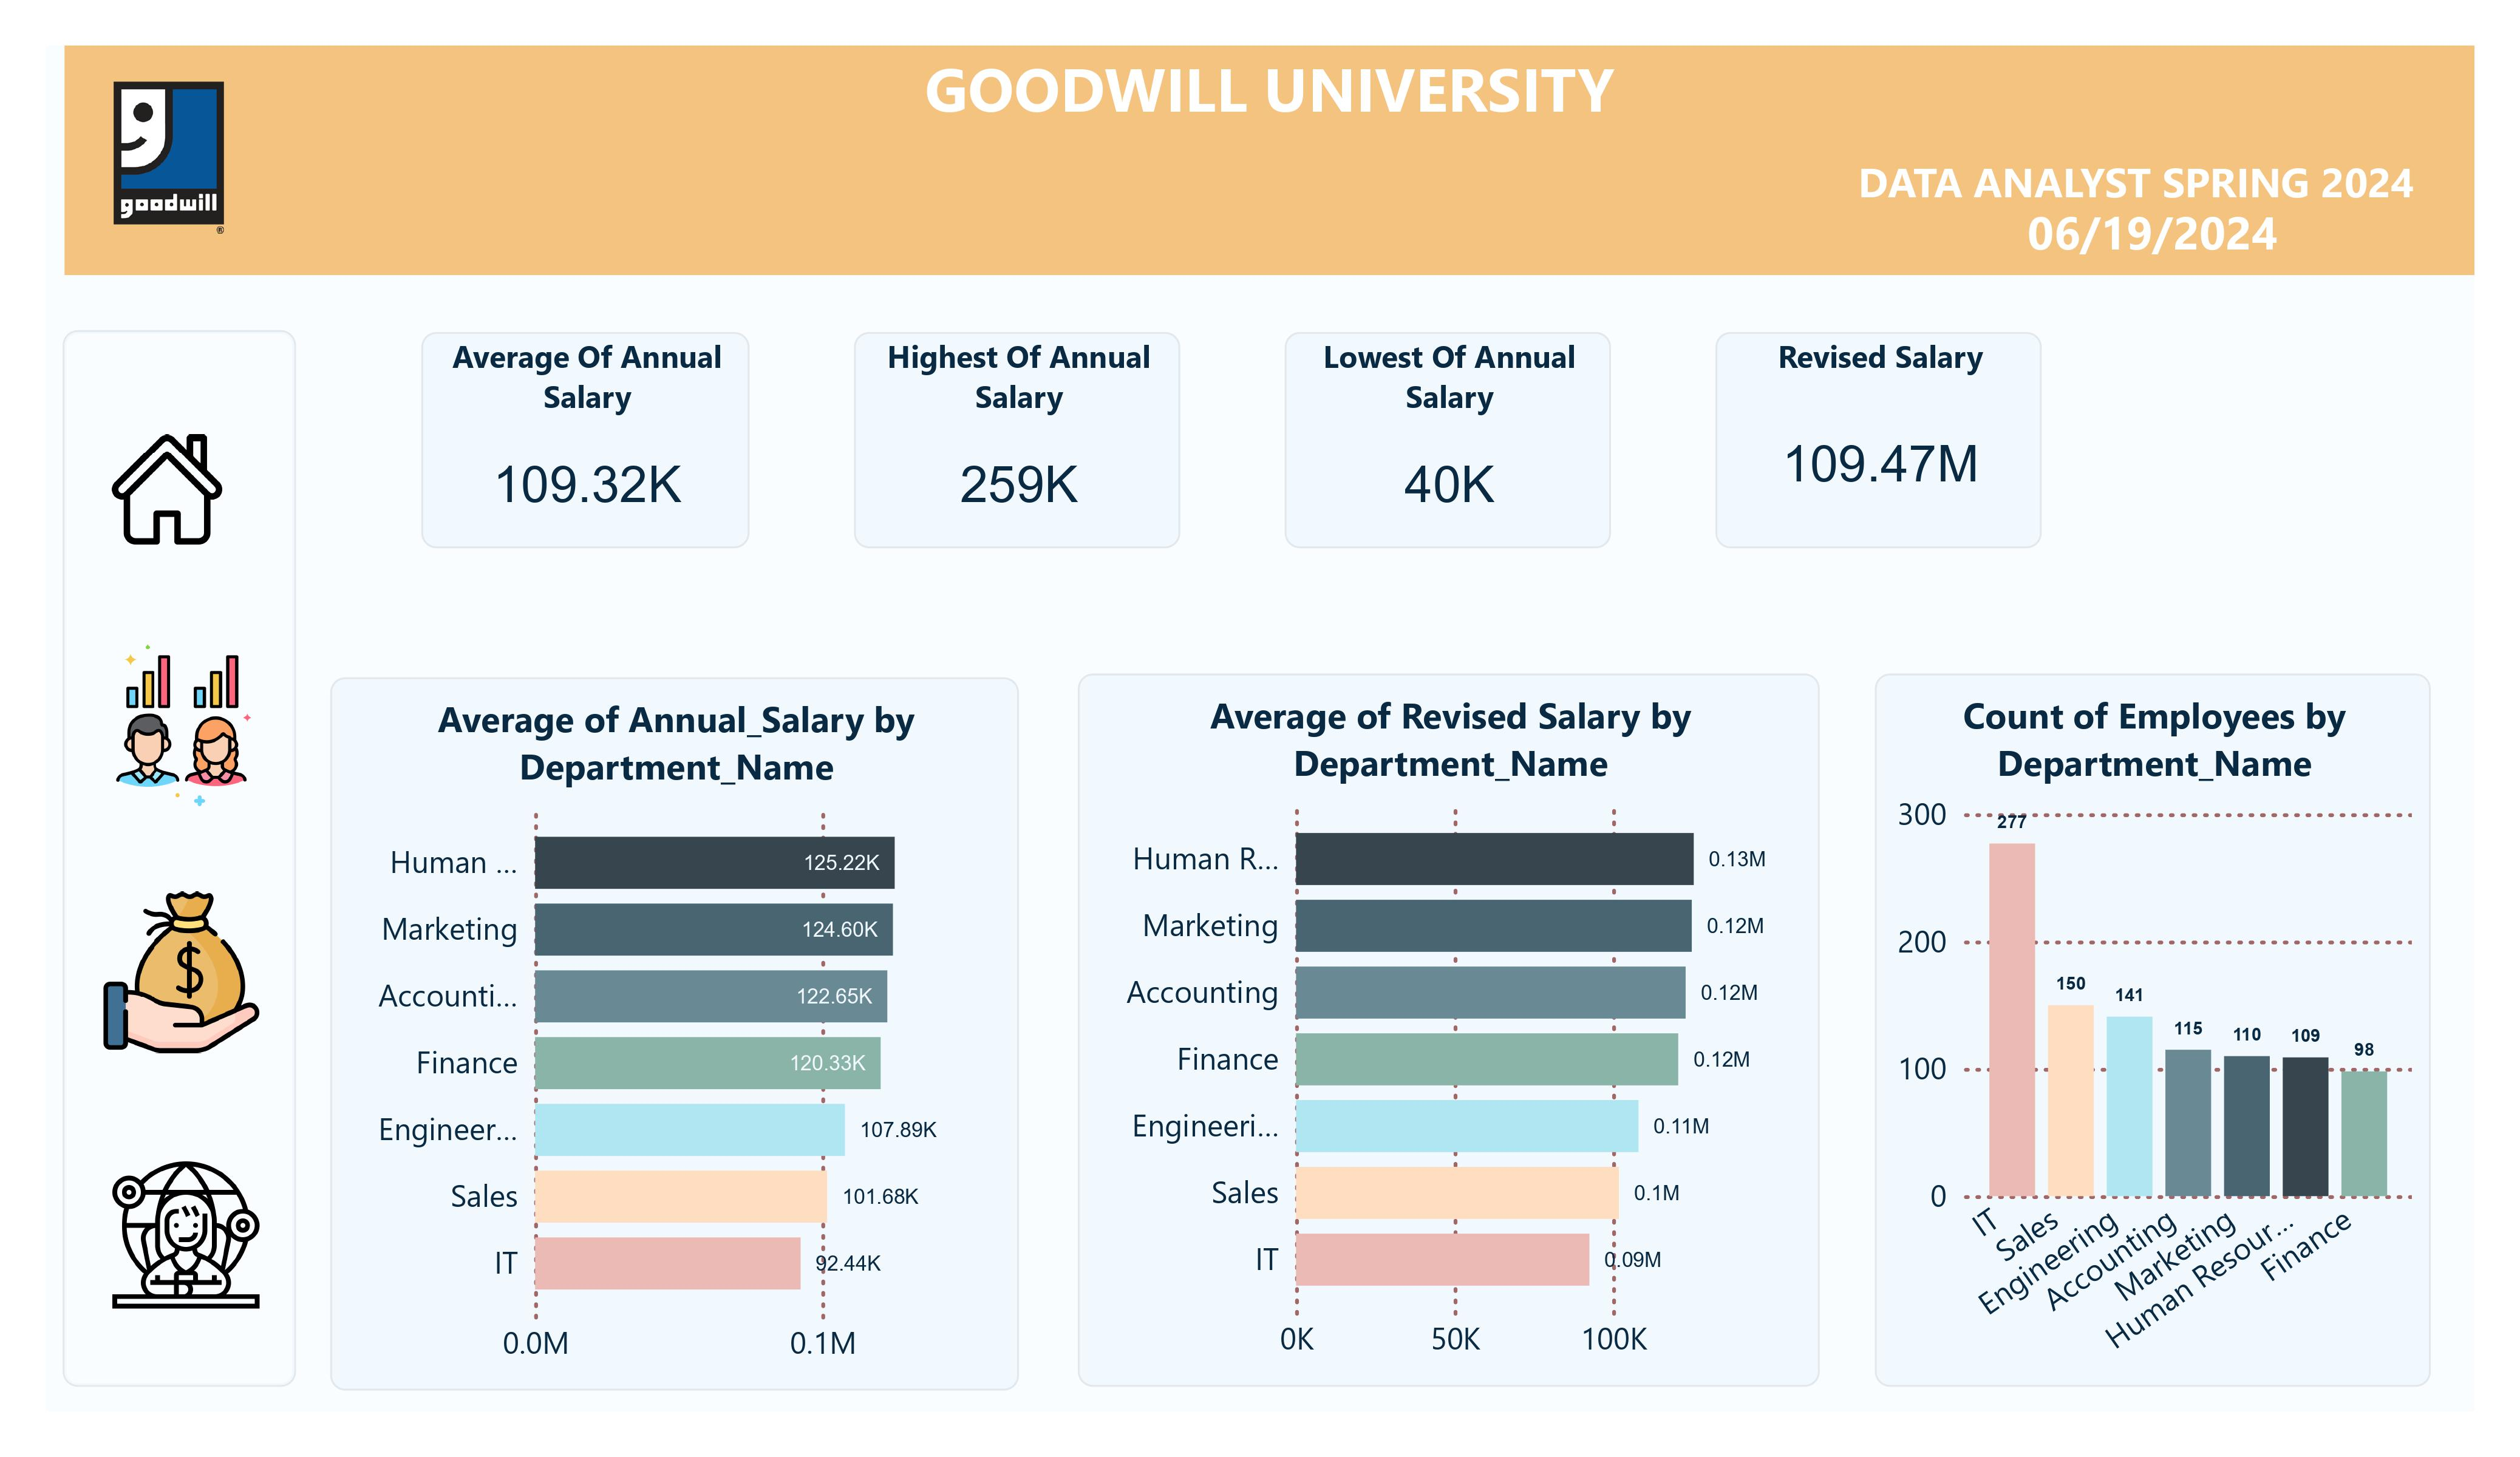

This screenshot's page, from the dashboard's own definition file:
{"tool":"powerbi","page":{"name":"Salary Analysis","canvas":[1280,720],"ordinal":2},"visuals":[{"type":"textbox","box":[10.2,0,1269.6,120.8],"z":0},{"type":"image","box":[25.5,0,78.3,120.8],"z":1000},{"type":"card","fields":{"Values":["Key Measures.FormattedTodayDate"]},"box":[1028.5,78.4,163.6,42.6],"z":2000},{"type":"shape","box":[10.2,151.5,120.8,554.8],"z":3000},{"type":"image","box":[24.6,179.3,78.4,112],"z":4000},{"type":"image","box":[18.7,308,105.5,103.8],"z":5000},{"type":"image","box":[18.7,428.9,105.5,122.5],"z":6000},{"type":"image","box":[23.8,563.3,100.4,131],"z":7000},{"type":"card","title":"Average Of Annual Salary","fields":{"Values":["Avg(EmployeeSampleDataCSV.Annual_Salary)"]},"box":[199.4,152.4,170.3,112],"z":8000},{"type":"card","title":"Highest Of Annual Salary","fields":{"Values":["Key Measures.Highest Annual Salary"]},"box":[426.5,152.4,170.3,112],"z":9000},{"type":"card","title":"Lowest Of Annual Salary","fields":{"Values":["Key Measures.Lowest Of Annual Salary"]},"box":[653.6,152.4,170.3,112],"z":10000},{"type":"card","title":"Revised Salary","fields":{"Values":["Sum(EmployeeSampleDataCSV.Revised Salary)"]},"box":[880.6,152.4,170.3,112],"z":11000},{"type":"barChart","fields":{"Category":["DepartmentSampleDataCSV.Department_Name"],"Y":["Avg(EmployeeSampleDataCSV.Annual_Salary)"]},"box":[151.5,333.6,360.8,374.4],"z":12000},{"type":"clusteredBarChart","fields":{"Y":["Avg(EmployeeSampleDataCSV.Revised Salary)"],"Category":["DepartmentSampleDataCSV.Department_Name"]},"box":[544.6,331.9,389.7,374.4],"z":13000},{"type":"clusteredColumnChart","title":"Count of Employees by Department_Name","fields":{"Y":["CountNonNull(EmployeeSampleDataCSV.Employee_ID)"],"Category":["DepartmentSampleDataCSV.Department_Name"]},"box":[965,331.9,291,374.4],"z":14000}]}

Visuals, with their boxes in screenshot pixels (x1, y1, x2, y2):
textbox: <bbox>65, 46, 2474, 274</bbox>
image: <bbox>94, 46, 242, 274</bbox>
card - Key Measures.FormattedTodayDate: <bbox>1997, 194, 2307, 275</bbox>
shape: <bbox>65, 333, 294, 1385</bbox>
image: <bbox>92, 385, 241, 598</bbox>
image: <bbox>81, 630, 281, 827</bbox>
image: <bbox>81, 859, 281, 1092</bbox>
image: <bbox>90, 1114, 281, 1363</bbox>
"Average Of Annual Salary" card: <bbox>424, 335, 747, 547</bbox>
"Highest Of Annual Salary" card: <bbox>855, 335, 1178, 547</bbox>
"Lowest Of Annual Salary" card: <bbox>1286, 335, 1609, 547</bbox>
"Revised Salary" card: <bbox>1717, 335, 2040, 547</bbox>
barChart - DepartmentSampleDataCSV.Department_Name x Avg(EmployeeSampleDataCSV.Annual_Salary): <bbox>333, 679, 1018, 1389</bbox>
clusteredBarChart - Avg(EmployeeSampleDataCSV.Revised Salary) x DepartmentSampleDataCSV.Department_Name: <bbox>1079, 675, 1819, 1385</bbox>
"Count of Employees by Department_Name" clusteredColumnChart: <bbox>1877, 675, 2429, 1385</bbox>
